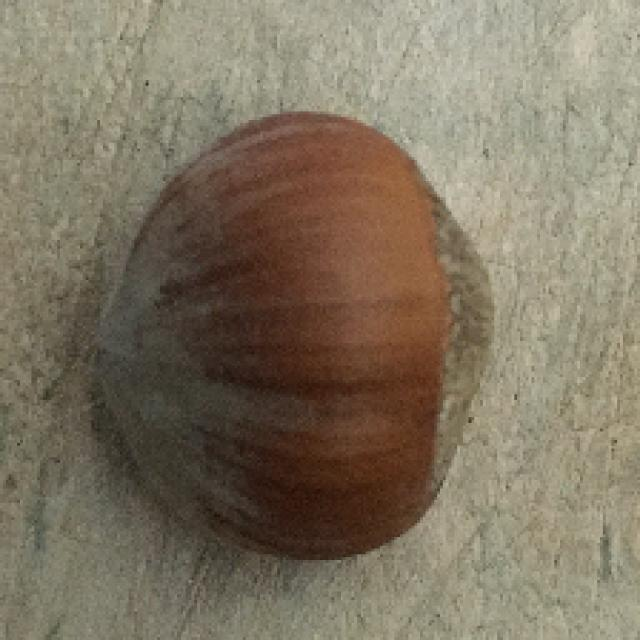qualityHazelnut: (89, 112, 500, 565)
